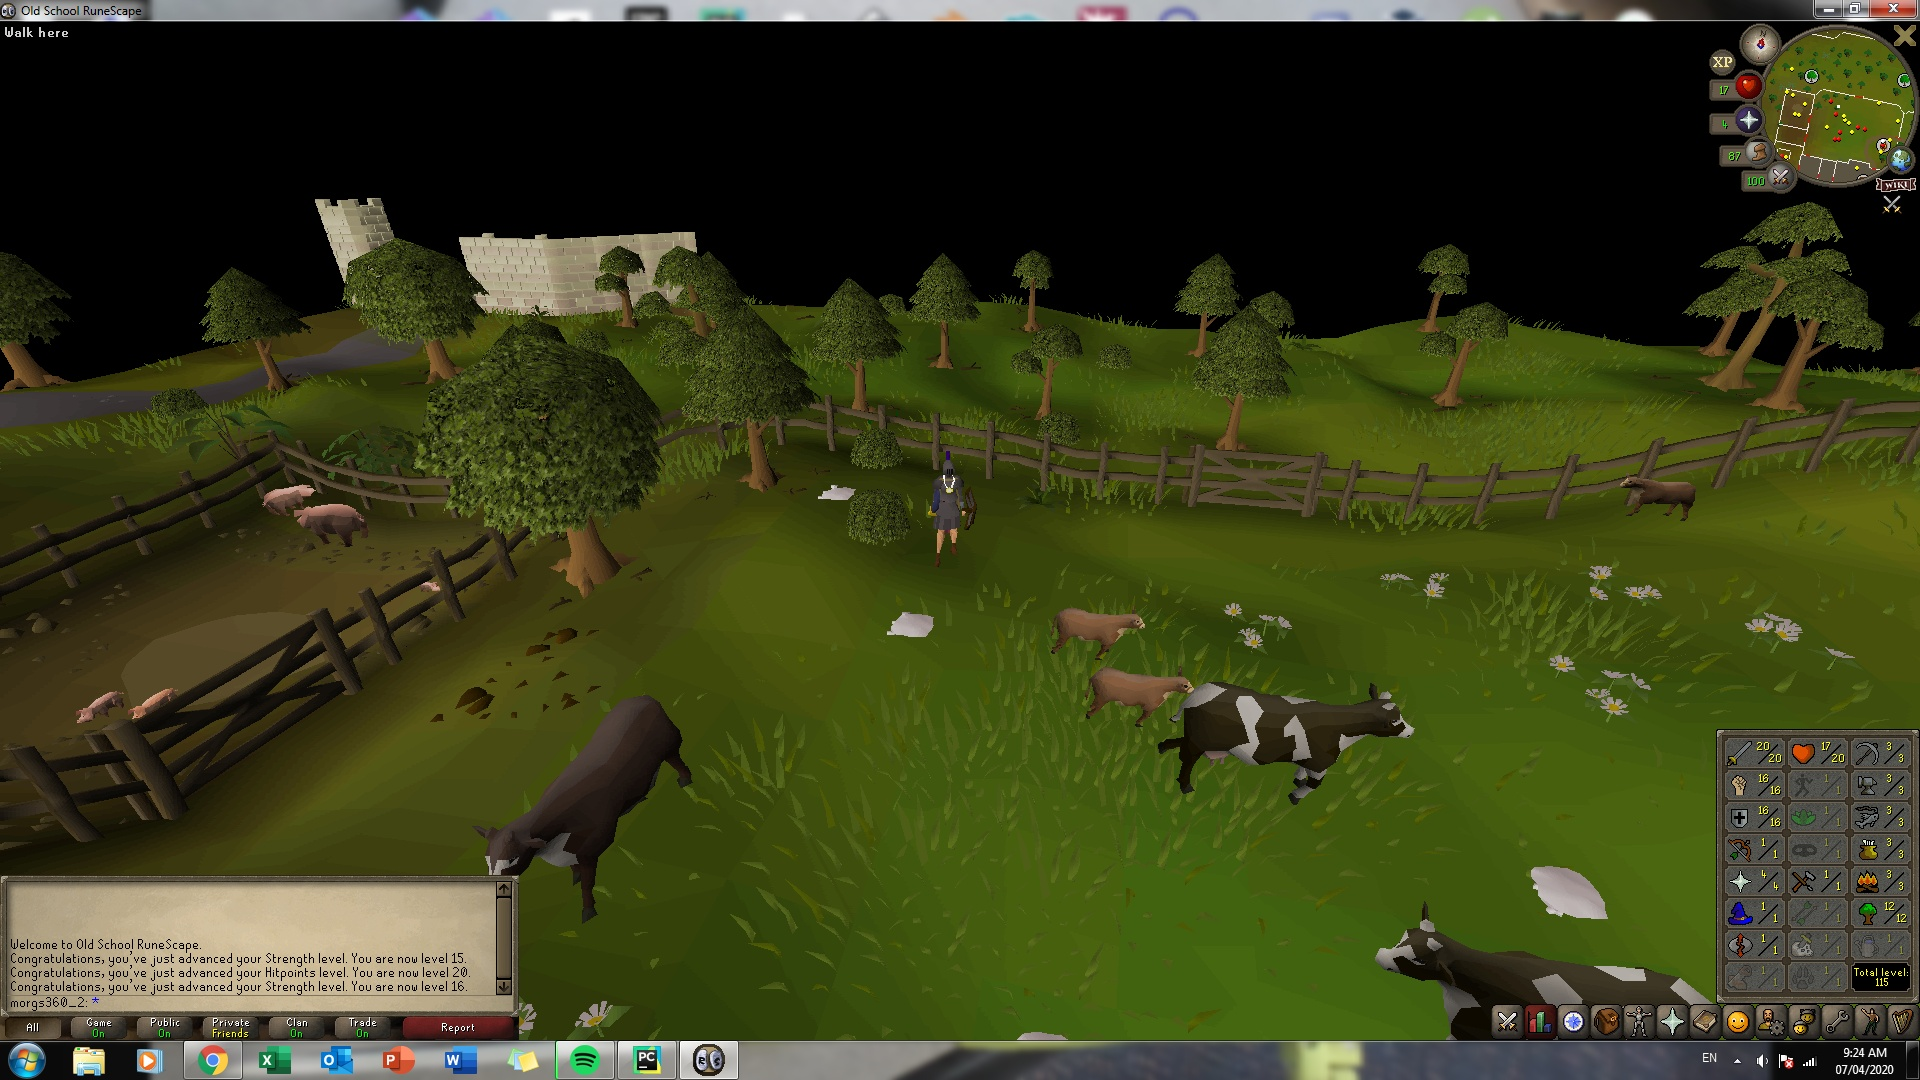cow: (487, 699, 698, 924), (1365, 911, 1716, 1039), (1156, 665, 1415, 804)
